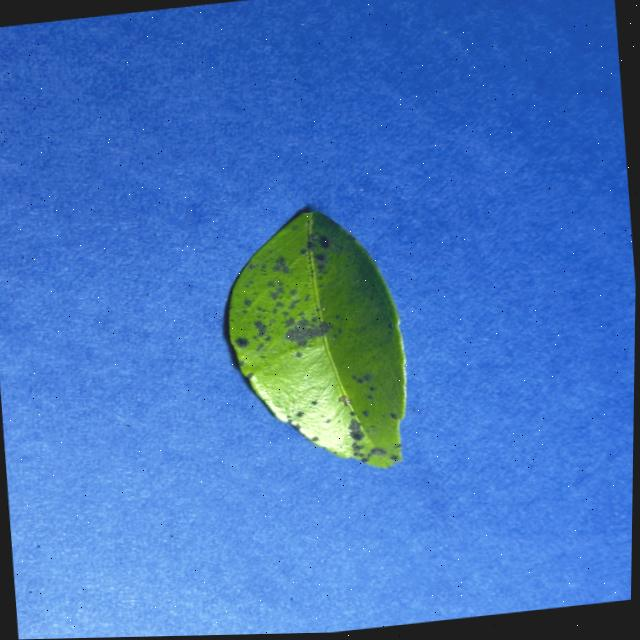sooty_mold: (227, 211, 404, 467)
